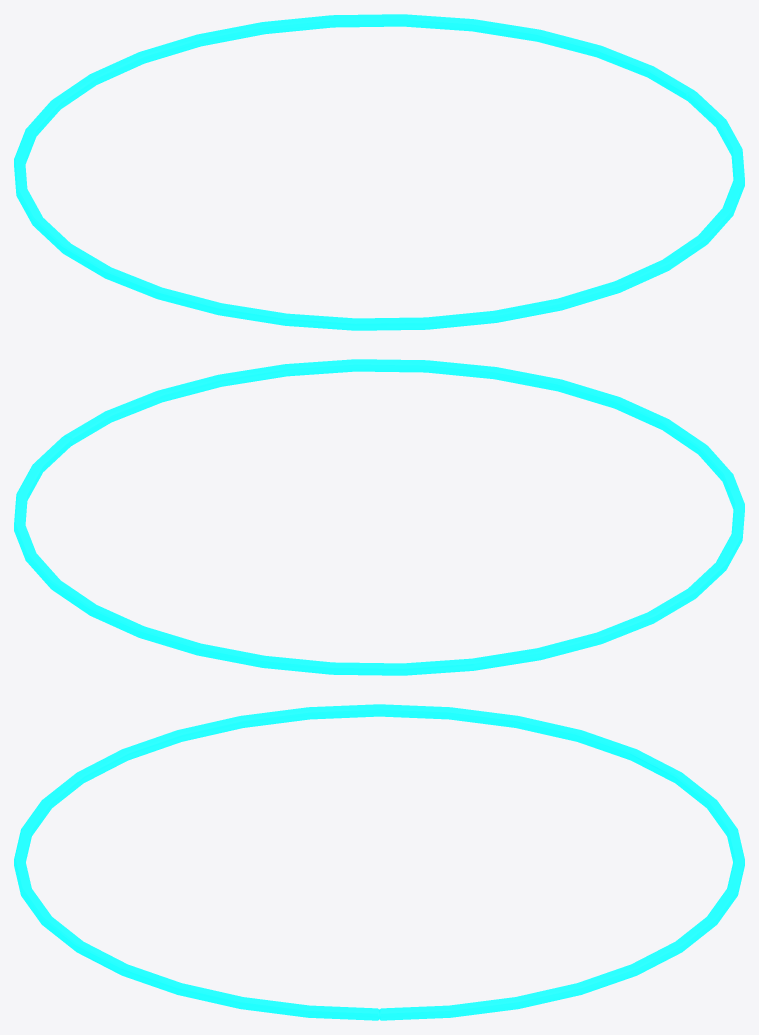
The model's file is Repair_Scanner_V2.fbx.
3 renders of one model, top to bottom at view 1: azimuth 30°, elevation 25°; view 2: azimuth 150°, elevation 25°; view 3: azimuth 270°, elevation 25°, orthographic.
Parts seen in each view (by area): view 1: Repair_Scanner_V2; view 2: Repair_Scanner_V2; view 3: Repair_Scanner_V2.
Part boxes in pixels (x1,y1,x2,y2): Repair_Scanner_V2: (14,14,744,330); Repair_Scanner_V2: (14,359,744,675); Repair_Scanner_V2: (14,704,744,1020).
Bounding box in the file's own units: 1.64 × 0.022 × 1.64.
